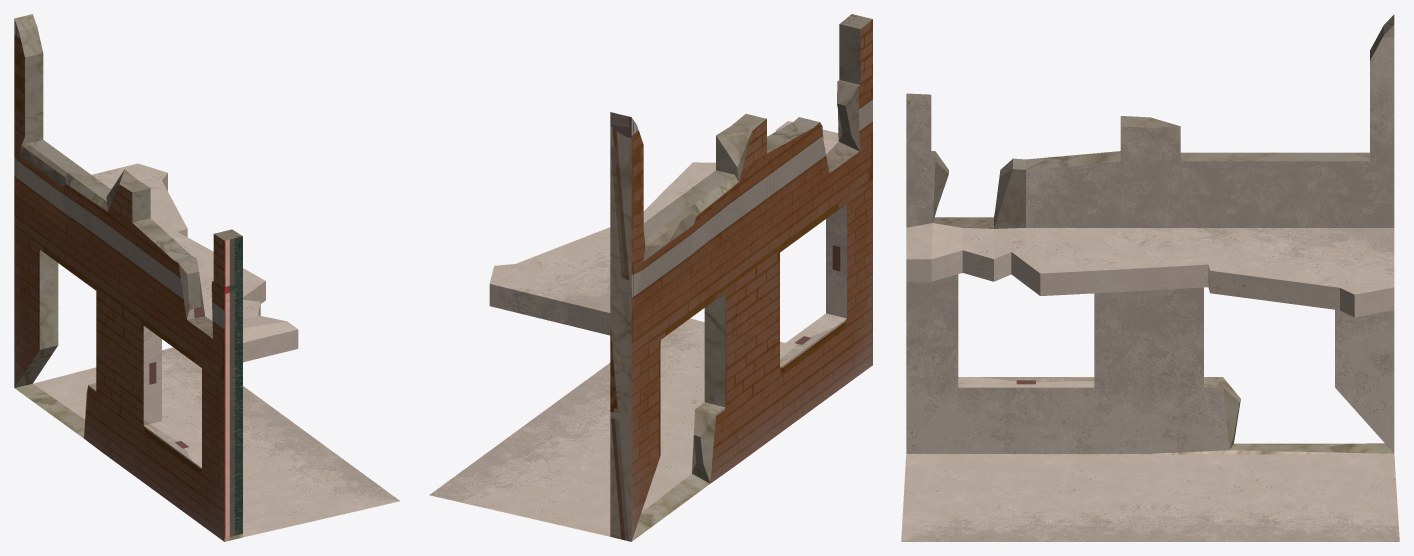
Rendered from Wall2R.fbx.
The picture shows the model from 3 angles, left to right: view 1: azimuth 30°, elevation 25°; view 2: azimuth 150°, elevation 25°; view 3: azimuth 270°, elevation 25°; orthographic projection. The views are drawn at different scales.
Parts seen in each view (by area): view 1: Cube.010; view 2: Cube.010; view 3: Cube.010.
Boxes of the visible parts, bbox=[...] form: Cube.010: bbox=[14, 14, 400, 541]; Cube.010: bbox=[429, 14, 872, 541]; Cube.010: bbox=[901, 14, 1399, 541].
Bounding box in the file's own units: 190 × 380 × 400.
